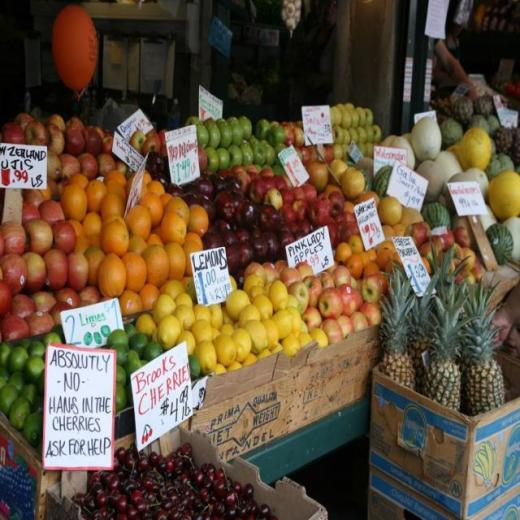Mango: (462, 275, 505, 416), (426, 276, 463, 405), (379, 260, 416, 388), (424, 240, 466, 306), (408, 294, 430, 390)
